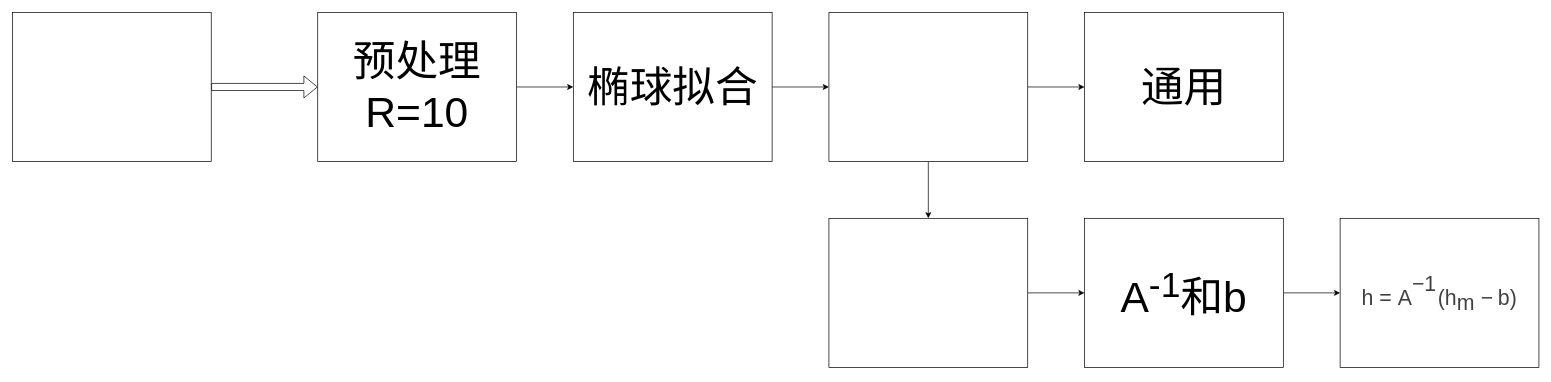
The diagram is 1551 pixels wide and 382 high, and some of its shapes have lost their labels. The shapes that lost their labels are listed below. From the top down, each one's centre as x and y in pixels, then its label:
the point at 111,87: 加载数据
the point at 928,87: 参数 v(10,1)
the point at 928,292: M(3,3) n(3,1) d(1,1)
